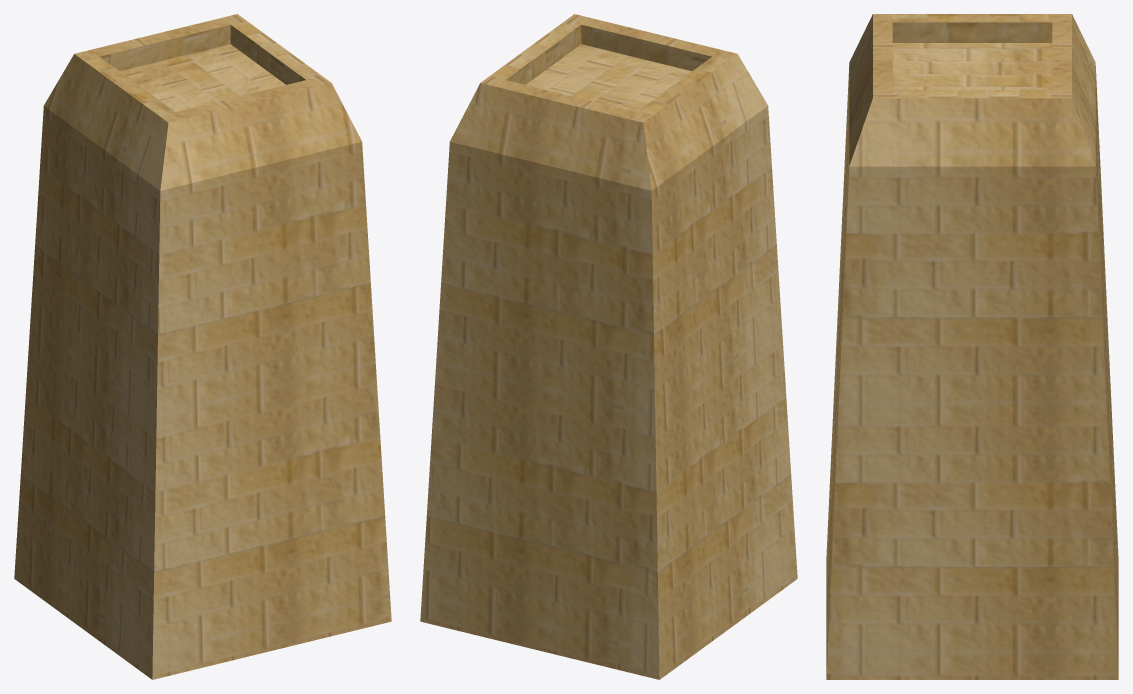
Rendered from EgyptianTower.obj.
The picture shows the model from 3 angles, left to right: view 1: azimuth 30°, elevation 25°; view 2: azimuth 150°, elevation 25°; view 3: azimuth 270°, elevation 25°; orthographic projection. The views are drawn at different scales.
Parts seen in each view (by area): view 1: Cube_Cube.002; view 2: Cube_Cube.002; view 3: Cube_Cube.002.
Part boxes in pixels (left/top/right/bottom): Cube_Cube.002: left=14, top=14, right=391, bottom=679; Cube_Cube.002: left=420, top=14, right=797, bottom=679; Cube_Cube.002: left=826, top=14, right=1118, bottom=679.
Size of the model in its own units: 0.4289 by 0.9109 by 0.4289.
Materials: 1 (1 with a texture image).
